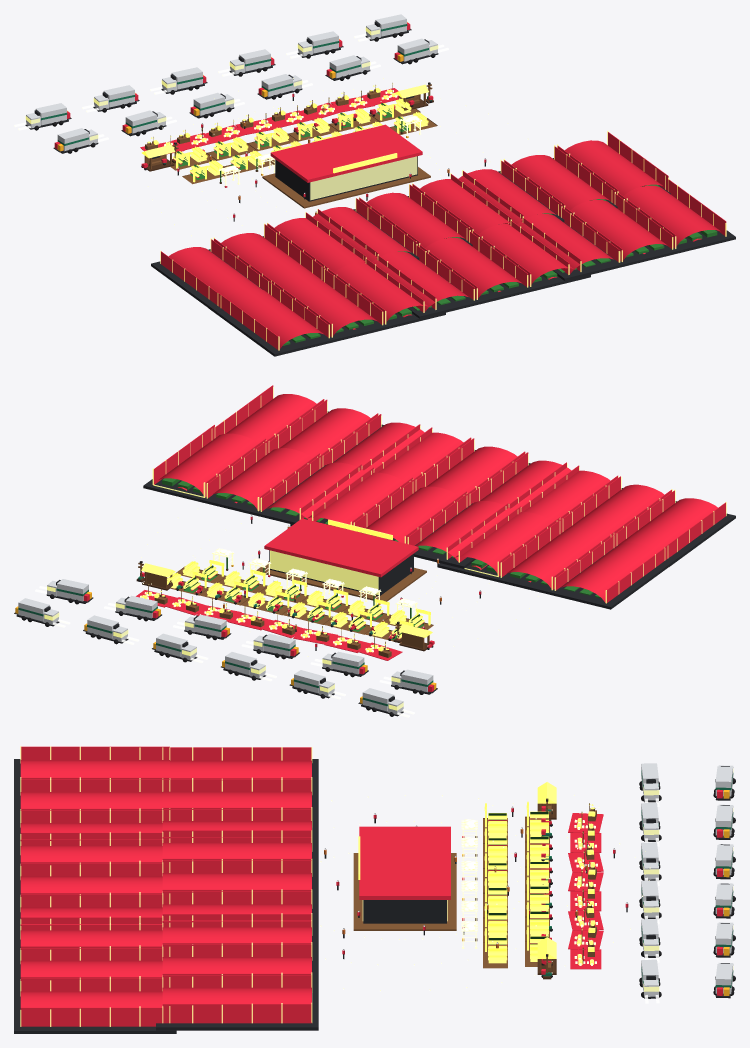
File: ul_w8_03_van_thanh_flower_village_logistics_trucks_and_greenhouse_cafes.glb
3 renders of one model, top to bottom at view 1: azimuth 30°, elevation 25°; view 2: azimuth 150°, elevation 25°; view 3: azimuth 270°, elevation 25°, orthographic. The views are drawn at different scales.
Visible parts, largest first — view 1: ul_w8_03_rose_crimson, ul_w8_03_dark_iron_frame, ul_w8_03_reefer_truck_white, ul_w8_03_neon_sign_gold, ul_w8_03_pine_deck_wood, ul_w8_03_warm_cafe_window, ul_w8_03_greenhouse_glow_warm, ul_w8_03_foliage_green, ul_w8_03_warm_string_bulb, ul_w8_03_sleeper_bus_emerald, ul_w8_03_rubber_tire, ul_w8_03_headlight_beam; view 2: ul_w8_03_rose_crimson, ul_w8_03_dark_iron_frame, ul_w8_03_reefer_truck_white, ul_w8_03_neon_sign_gold, ul_w8_03_pine_deck_wood, ul_w8_03_greenhouse_glow_warm, ul_w8_03_warm_cafe_window, ul_w8_03_foliage_green, ul_w8_03_warm_string_bulb, ul_w8_03_sleeper_bus_emerald, ul_w8_03_rubber_tire, ul_w8_03_headlight_beam; view 3: ul_w8_03_rose_crimson, ul_w8_03_dark_iron_frame, ul_w8_03_neon_sign_gold, ul_w8_03_reefer_truck_white, ul_w8_03_pine_deck_wood, ul_w8_03_greenhouse_glow_warm, ul_w8_03_warm_string_bulb, ul_w8_03_rubber_tire, ul_w8_03_foliage_green, ul_w8_03_sleeper_bus_emerald, ul_w8_03_warm_cafe_window.
Boxes of the visible parts, <box> form: ul_w8_03_rose_crimson: <box>54,22,726,350</box>; ul_w8_03_dark_iron_frame: <box>25,21,735,356</box>; ul_w8_03_reefer_truck_white: <box>26,14,485,214</box>; ul_w8_03_neon_sign_gold: <box>141,83,428,182</box>; ul_w8_03_pine_deck_wood: <box>144,82,437,208</box>; ul_w8_03_warm_cafe_window: <box>25,27,438,200</box>; ul_w8_03_greenhouse_glow_warm: <box>160,130,726,350</box>; ul_w8_03_foliage_green: <box>177,103,717,345</box>; ul_w8_03_warm_string_bulb: <box>147,78,538,236</box>; ul_w8_03_sleeper_bus_emerald: <box>41,24,431,163</box>; ul_w8_03_rubber_tire: <box>34,32,435,170</box>; ul_w8_03_headlight_beam: <box>14,33,448,163</box>; ul_w8_03_rose_crimson: <box>83,385,725,692</box>; ul_w8_03_dark_iron_frame: <box>14,411,735,716</box>; ul_w8_03_reefer_truck_white: <box>18,515,480,714</box>; ul_w8_03_neon_sign_gold: <box>141,519,432,652</box>; ul_w8_03_pine_deck_wood: <box>138,561,433,657</box>; ul_w8_03_greenhouse_glow_warm: <box>152,387,726,603</box>; ul_w8_03_warm_cafe_window: <box>44,550,403,710</box>; ul_w8_03_foliage_green: <box>162,478,601,640</box>; ul_w8_03_warm_string_bulb: <box>139,508,538,656</box>; ul_w8_03_sleeper_bus_emerald: <box>18,576,433,706</box>; ul_w8_03_rubber_tire: <box>21,577,433,716</box>; ul_w8_03_headlight_beam: <box>35,577,427,717</box>; ul_w8_03_rose_crimson: <box>20,746,722,1026</box>; ul_w8_03_dark_iron_frame: <box>14,759,730,1033</box>; ul_w8_03_neon_sign_gold: <box>358,782,595,964</box>; ul_w8_03_reefer_truck_white: <box>324,763,733,996</box>; ul_w8_03_pine_deck_wood: <box>353,799,596,972</box>; ul_w8_03_greenhouse_glow_warm: <box>20,746,312,1026</box>; ul_w8_03_warm_string_bulb: <box>320,795,650,991</box>; ul_w8_03_rubber_tire: <box>541,778,735,997</box>; ul_w8_03_foliage_green: <box>488,812,548,945</box>; ul_w8_03_sleeper_bus_emerald: <box>542,770,733,987</box>; ul_w8_03_warm_cafe_window: <box>362,768,733,991</box>.
Size of the model in its own units: 102 by 8.03 by 112.
